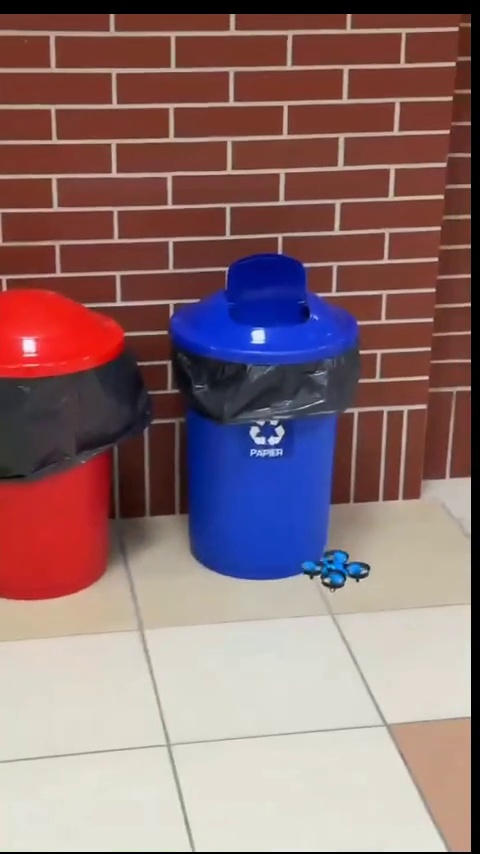drone: (298, 547, 365, 589)
